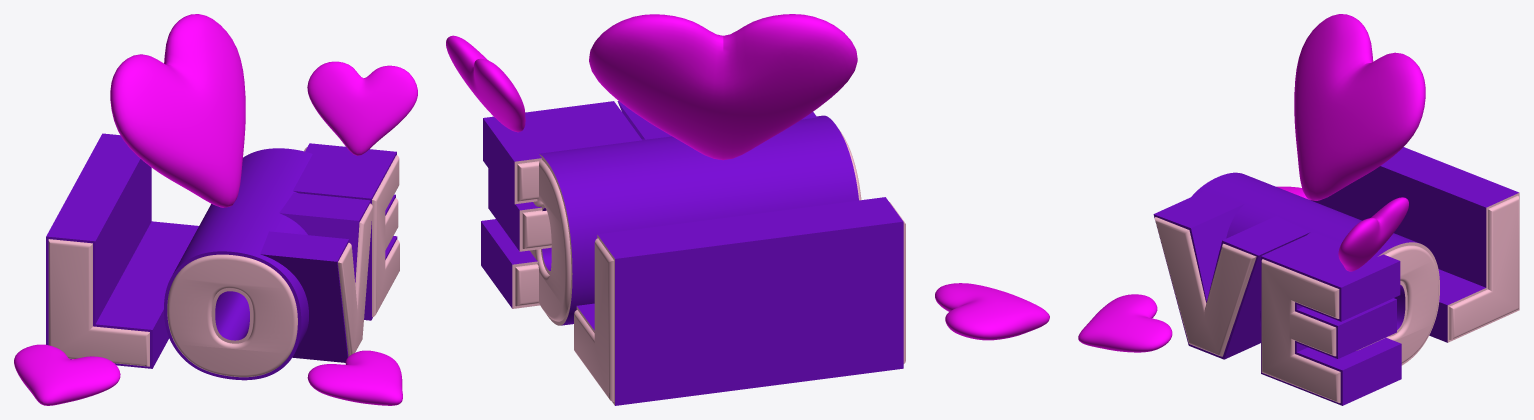
File: love_-_anil.glb
3 views of the same model, side by side, from view 1: azimuth 30°, elevation 25°; view 2: azimuth 150°, elevation 25°; view 3: azimuth 270°, elevation 25° (orthographic). The views are drawn at different scales.
Visible parts, largest first — view 1: Object_3, Object_2, Object_4; view 2: Object_3, Object_2, Object_4; view 3: Object_3, Object_4, Object_2.
Part boxes in pixels (x1=…): Object_3: x1=46, y1=133, x2=397, y2=380; Object_2: x1=14, y1=14, x2=417, y2=405; Object_4: x1=48, y1=147, x2=399, y2=377; Object_3: x1=481, y1=101, x2=903, y2=405; Object_2: x1=446, y1=14, x2=1049, y2=340; Object_4: x1=512, y1=130, x2=905, y2=405; Object_3: x1=1153, y1=147, x2=1518, y2=405; Object_4: x1=1155, y1=192, x2=1519, y2=402; Object_2: x1=1078, y1=14, x2=1425, y2=352.
Bounding box in the file's own units: 2.14 × 1.3 × 1.94.
